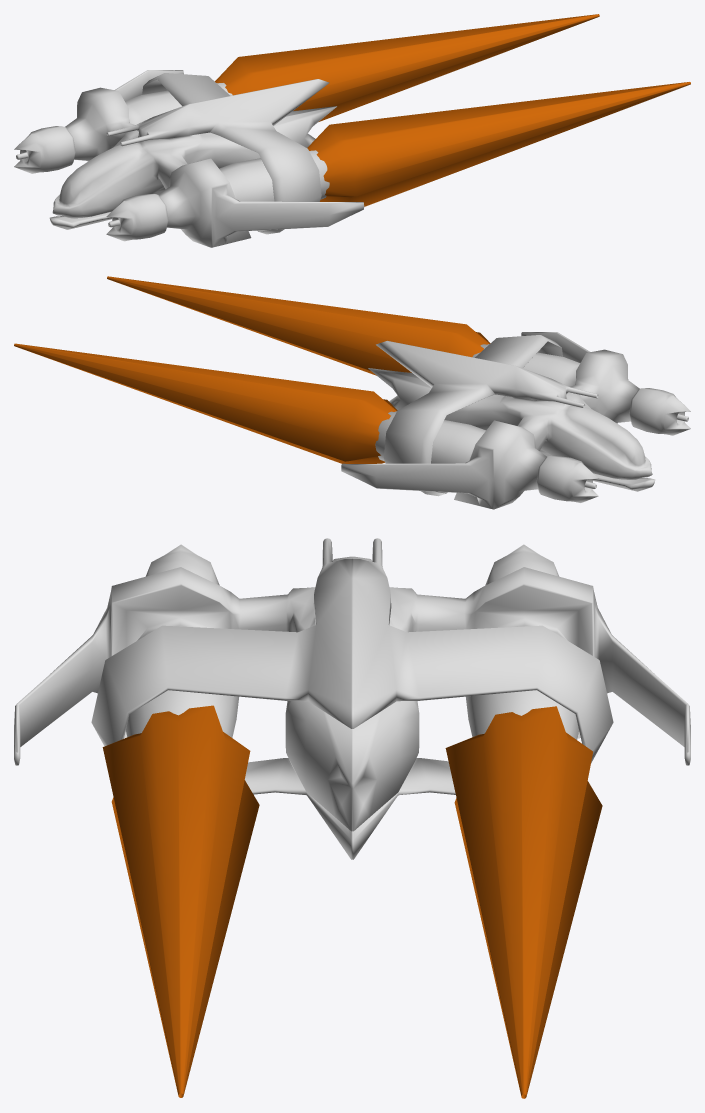
Rendered from Star Fighter Low-Poly.obj.
3 renders of one model, top to bottom at view 1: azimuth 30°, elevation 25°; view 2: azimuth 150°, elevation 25°; view 3: azimuth 270°, elevation 25°, orthographic. The views are drawn at different scales.
Parts seen in each view (by area): view 1: Star_Fighter_SF, Star_Fighter.005_SF.001, Star_Fighter.001_SF.001; view 2: Star_Fighter_SF, Star_Fighter.001_SF.001, Star_Fighter.005_SF.001; view 3: Star_Fighter_SF, Star_Fighter.001_SF.001, Star_Fighter.005_SF.001.
Boxes of the visible parts, bbox=[...] form: Star_Fighter_SF: bbox=[14, 70, 364, 247]; Star_Fighter.005_SF.001: bbox=[307, 82, 690, 206]; Star_Fighter.001_SF.001: bbox=[215, 14, 599, 121]; Star_Fighter_SF: bbox=[341, 332, 690, 509]; Star_Fighter.001_SF.001: bbox=[14, 343, 397, 463]; Star_Fighter.005_SF.001: bbox=[107, 276, 490, 375]; Star_Fighter_SF: bbox=[14, 538, 690, 859]; Star_Fighter.001_SF.001: bbox=[445, 706, 602, 1098]; Star_Fighter.005_SF.001: bbox=[102, 705, 259, 1097].
Size of what is drawn, in the model's own units: 25.59 by 4.08 by 13.57.
